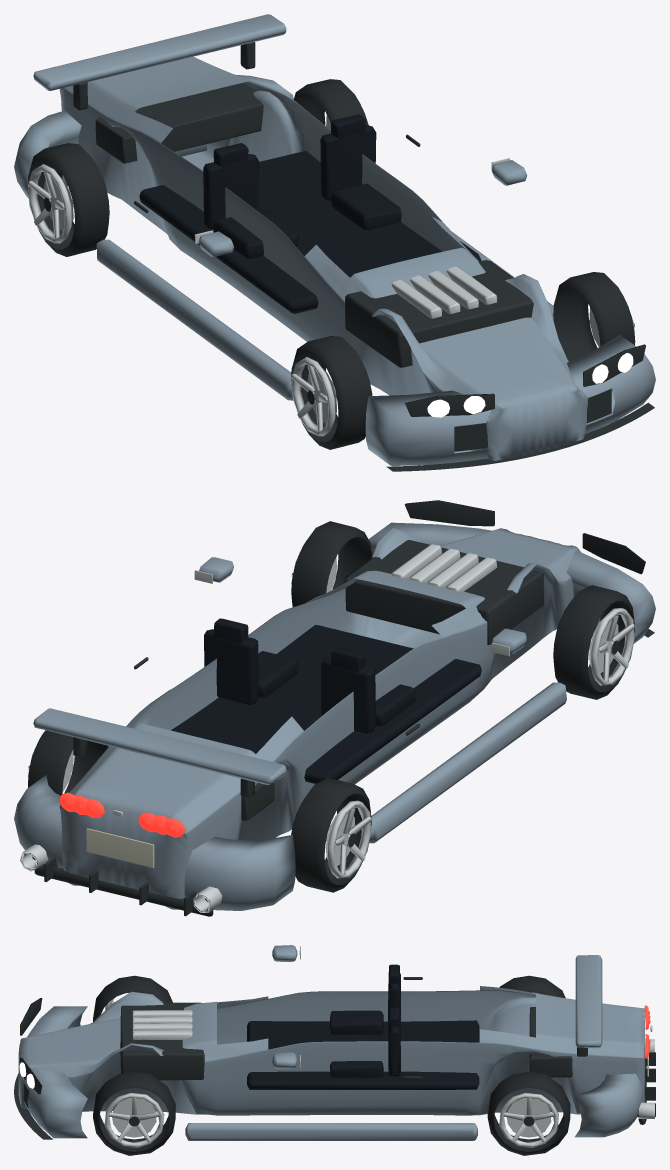
File: drevalyn-yndris.glb
3 renders of one model, top to bottom at view 1: azimuth 30°, elevation 25°; view 2: azimuth 150°, elevation 25°; view 3: azimuth 270°, elevation 25°, orthographic. The views are drawn at different scales.
Parts seen in each view (by area): view 1: scocca, interni, cofano, paraurti_ant, porta_sx, motore, audio_bagagliaio, spoiler, minigonna_sx, ruota_post_sx_gomma, ruota_ant_dx_gomma, ruota_ant_sx_gomma (+25 smaller); view 2: scocca, interni, paraurti_post, motore, portellone, porta_sx, spoiler, minigonna_sx, ruota_ant_sx_gomma, ruota_post_sx_gomma, paraurti_ant, porta_dx (+22 smaller); view 3: scocca, porta_dx, interni, porta_sx, minigonna_dx, cofano, paraurti_ant, motore, portellone, paraurti_post, ruota_post_dx_gomma, ruota_ant_dx_gomma (+22 smaller).
Part boxes in pixels (x1,y1,x2,y2): scocca: (59,81,588,461); interni: (139,150,481,313); cofano: (350,247,569,394); paraurti_ant: (365,335,655,465); porta_sx: (160,144,317,341); motore: (345,260,533,367); audio_bagagliaio: (95,83,263,163); spoiler: (33,14,286,90); minigonna_sx: (96,239,293,400); ruota_post_sx_gomma: (28,143,109,256); ruota_ant_dx_gomma: (553,272,635,361); ruota_ant_sx_gomma: (291,336,372,449); scocca: (59,528,580,909); interni: (171,625,481,783); paraurti_post: (14,775,295,910); motore: (344,539,543,644); portellone: (73,723,255,819); porta_sx: (302,634,454,801); spoiler: (33,708,286,784); minigonna_sx: (369,682,566,843); ruota_ant_sx_gomma: (553,585,634,699); ruota_post_sx_gomma: (291,778,371,892); paraurti_ant: (368,522,655,643); porta_dx: (160,600,314,730); scocca: (18,986,644,1115); porta_dx: (252,1041,479,1115); interni: (247,1020,479,1089); porta_sx: (252,990,479,1042); minigonna_dx: (185,1123,477,1140); cofano: (41,1001,216,1068); paraurti_ant: (23,1006,87,1138); motore: (120,1002,204,1080); portellone: (536,993,644,1046); paraurti_post: (574,1073,643,1137); ruota_post_dx_gomma: (487,1071,570,1155); ruota_ant_dx_gomma: (93,1071,175,1155).
Bounding box in the file's own units: 2.25 × 1.01 × 5.25.
